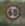limite 60: (3, 3, 21, 20)
